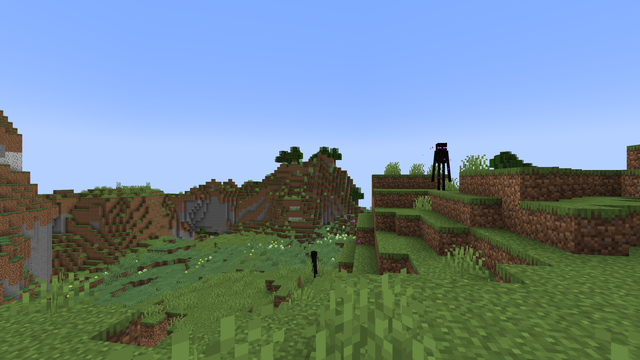endermens: (434, 141, 447, 190), (310, 249, 316, 277)
